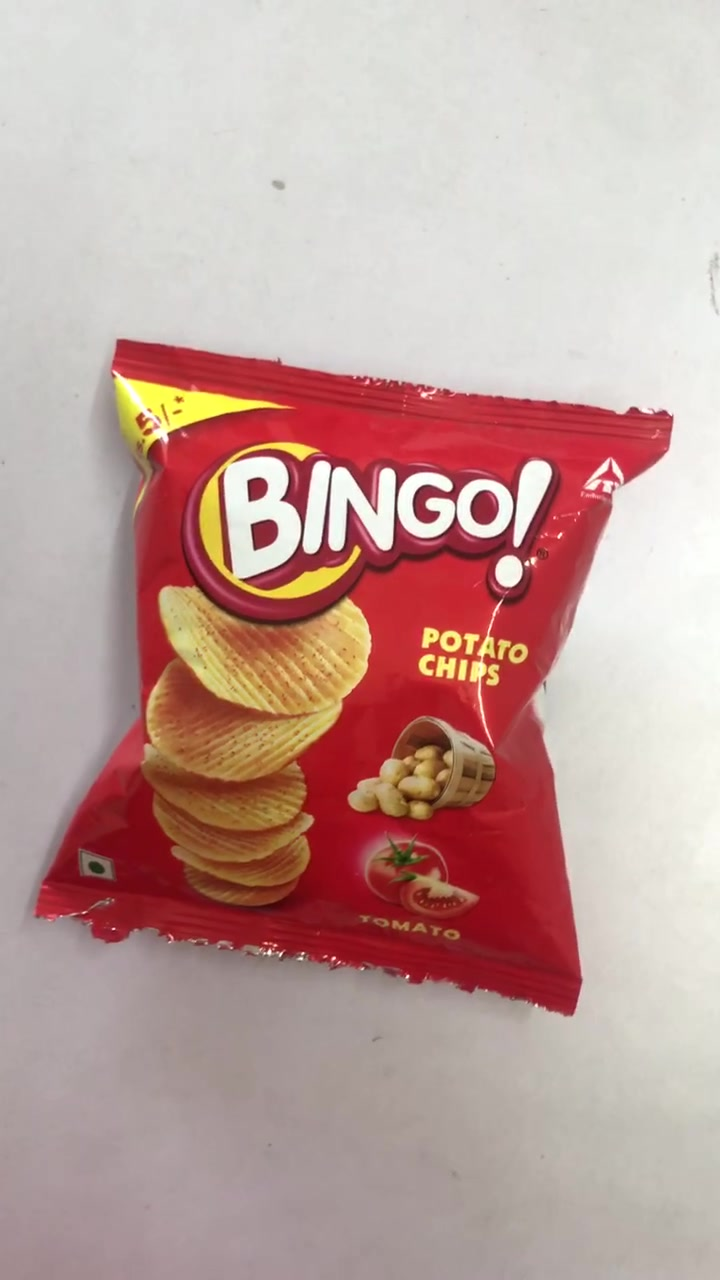Bingo: (27, 343, 671, 1013)
